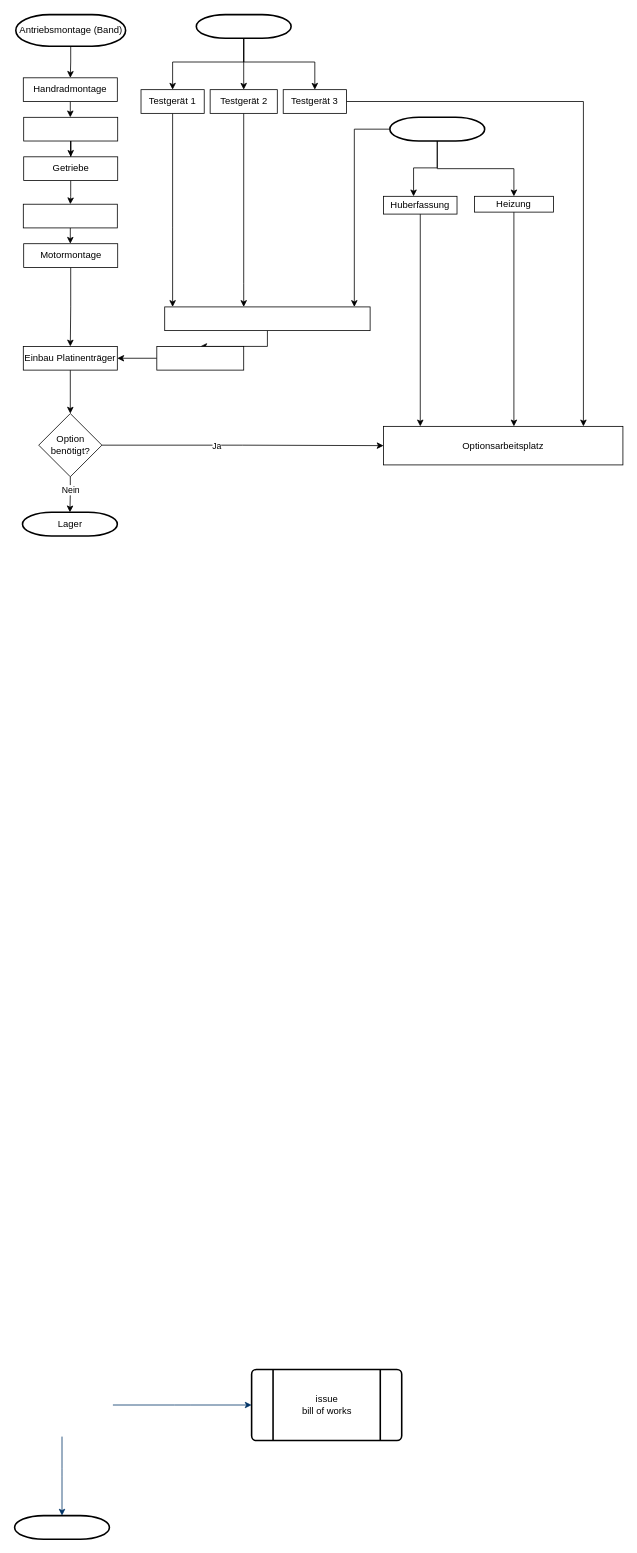
The diagram is 637 pixels wide and 1553 high, and some of its shapes have lost their labels. Here are the shapes that lost their labels. From the top down, the centre of each, then its label:
At [243,26]: "Zulieferer".
At [70,129]: "Spindelmuttereinheit".
At [437,128]: "Baugruppenmontage".
At [70,215]: "Zwischenboden".
At [267,318]: "Platinenträger".
At [200,358]: "(Netzteil und Trafo)".
At [61,1527]: "end".
